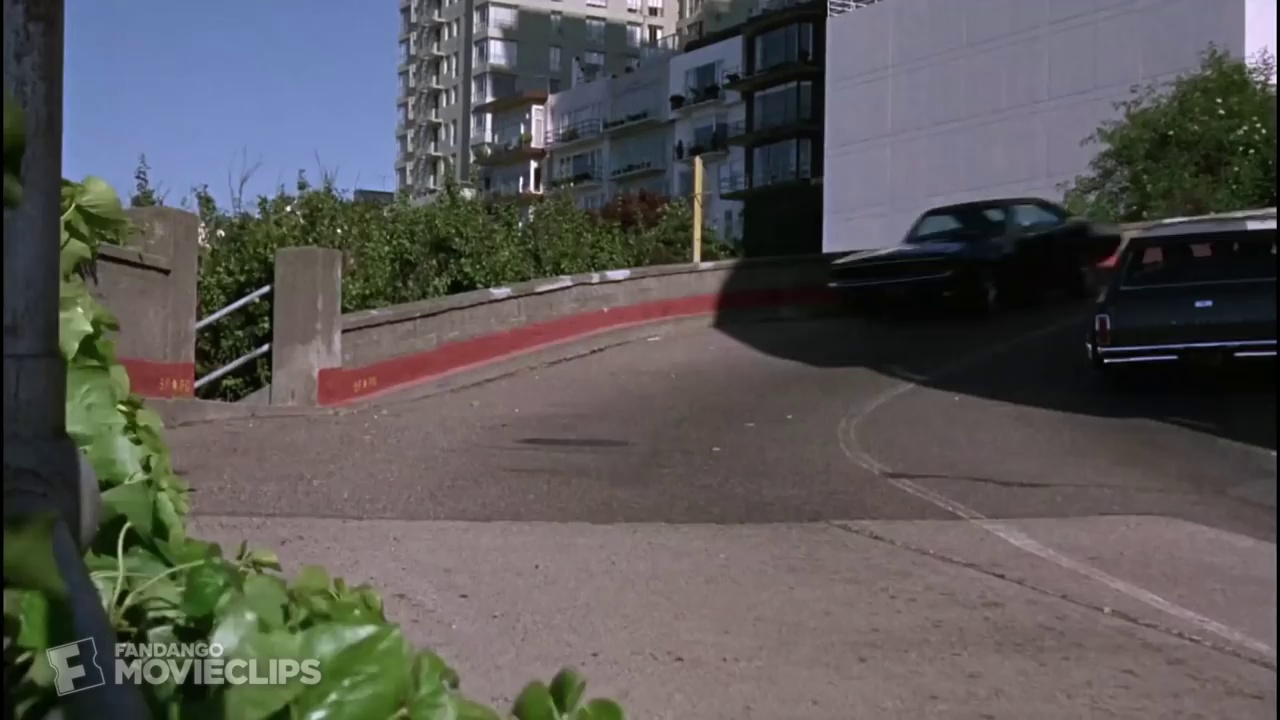car: (806, 188, 1108, 337), (1059, 206, 1280, 388)
